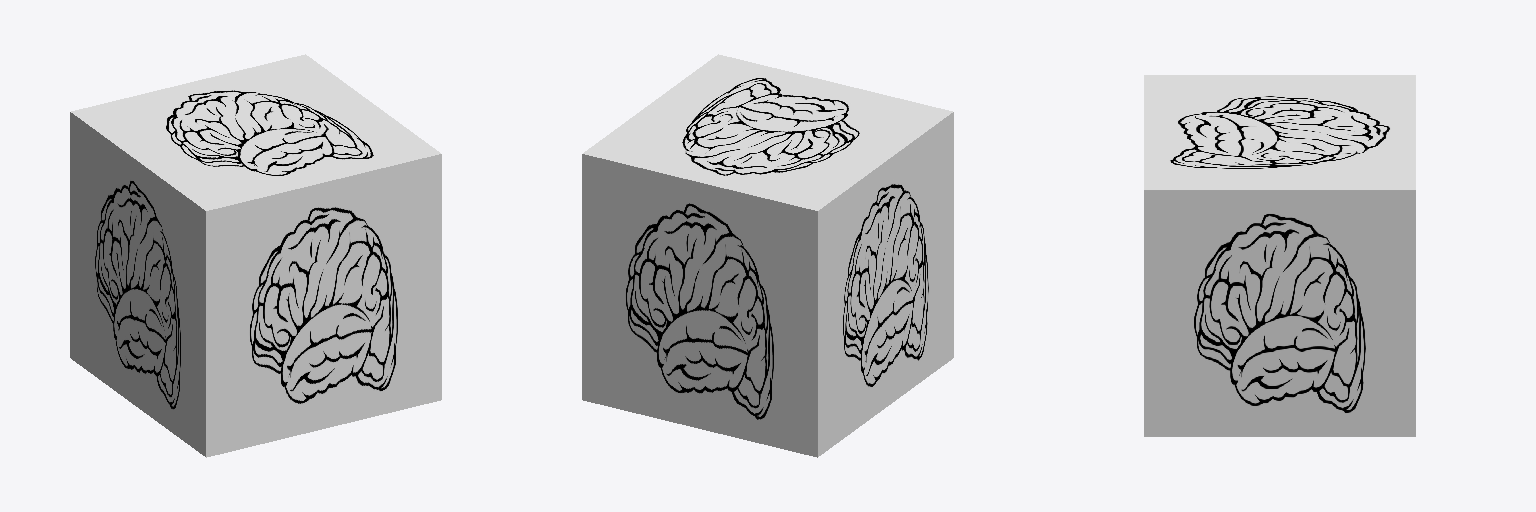
3 views of the same model, side by side, from view 1: azimuth 30°, elevation 25°; view 2: azimuth 150°, elevation 25°; view 3: azimuth 270°, elevation 25° (orthographic).
Visible parts, largest first — view 1: Cube; view 2: Cube; view 3: Cube.
Part boxes in pixels (x1,y1,x2,y2): Cube: (70, 54, 441, 457); Cube: (582, 54, 953, 457); Cube: (1144, 75, 1415, 436).
Size of the model in its own units: 2 by 2 by 2.
Materials: 1 (1 with a texture image).